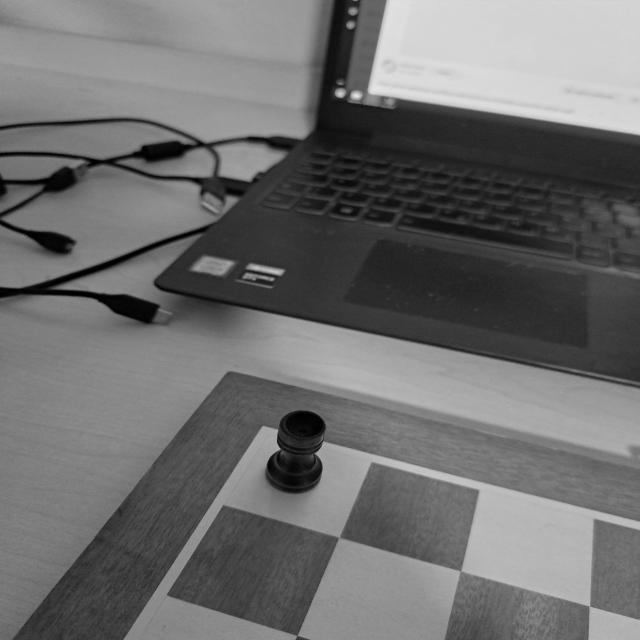chess-table-corners: (224, 409, 312, 462)
